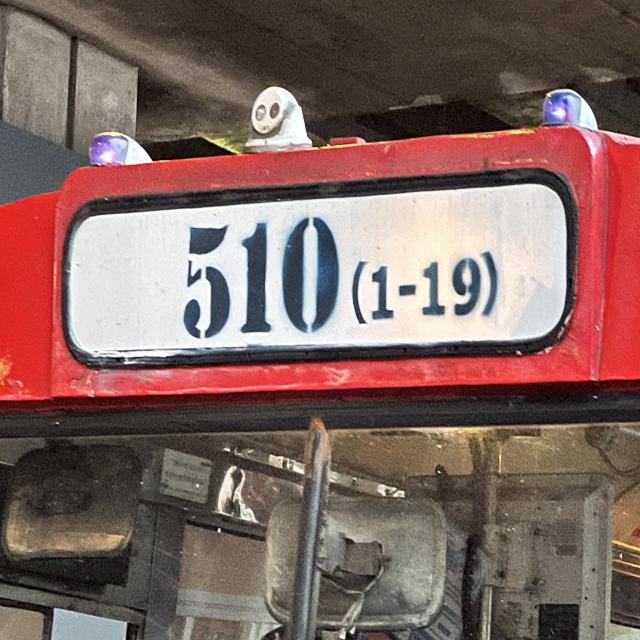BMTA-bus: (0, 74, 640, 640)
Bus-Line-Number: (180, 195, 504, 344)
